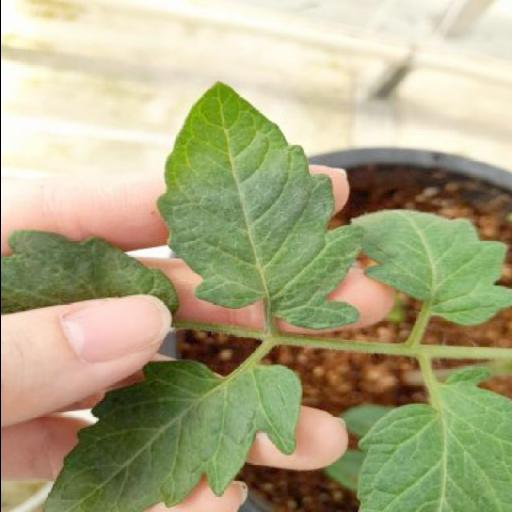Healthy: (156, 82, 364, 330), (44, 359, 300, 512), (350, 210, 511, 326)
